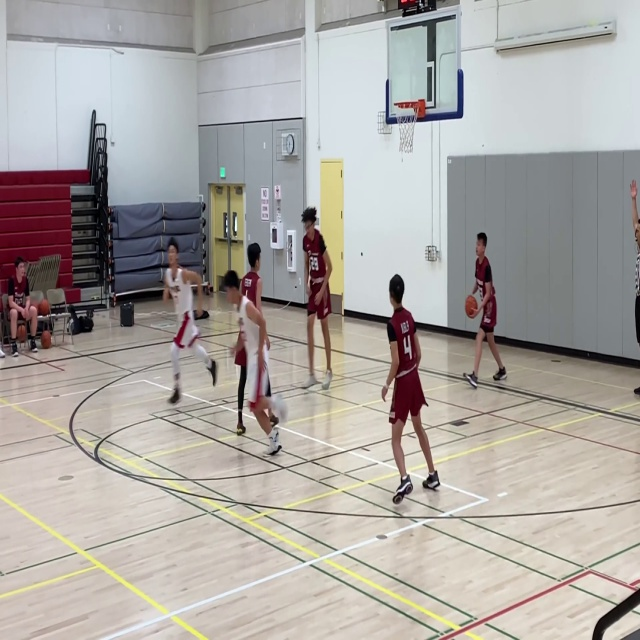Basketball: (465, 295, 478, 317), (41, 330, 52, 349), (38, 299, 50, 316), (16, 325, 26, 342)
